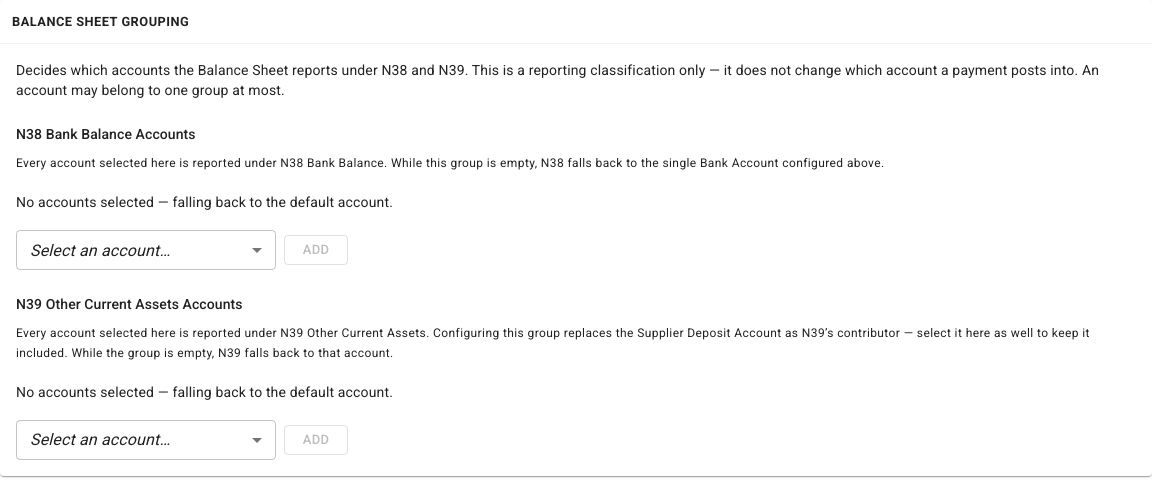
it: BalanceSheetGroupsSection — rendering › offers only ASSET accounts
Click the dropdown labelled "Select an account…" below "Bank Balance Accounts" at x=100, y=250, box top-left (30, 241), bottom-right (170, 260)
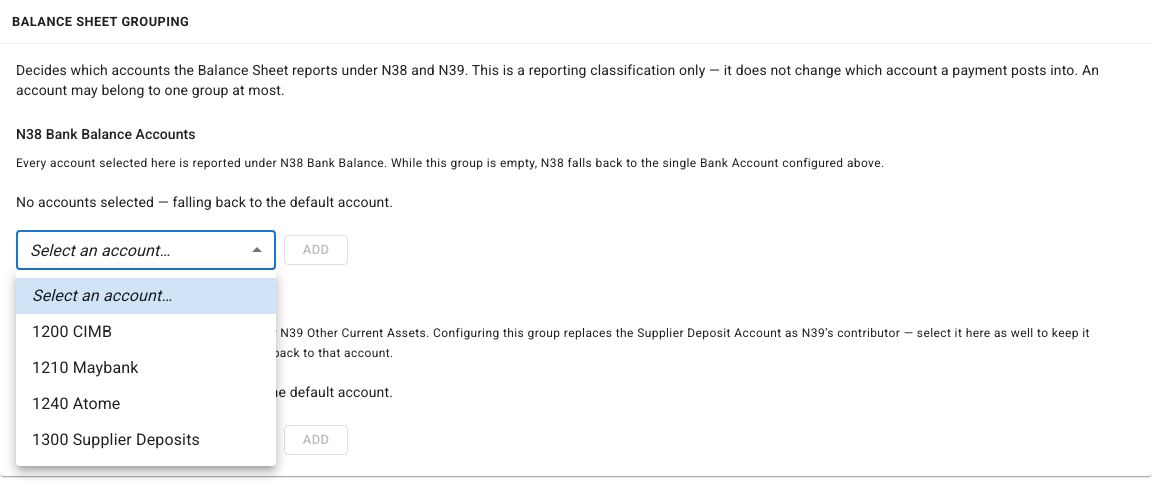
Check: the option "1200 CIMB" is shown, box top-left (32, 322), bottom-right (112, 341)
